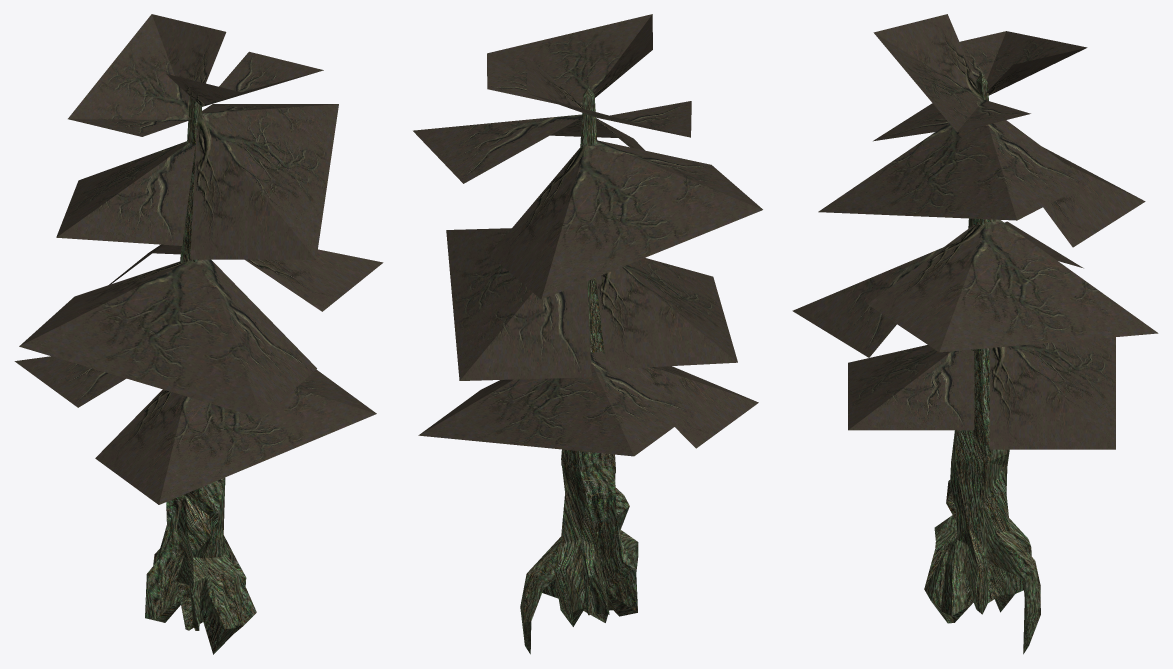
Rendered from decd_dath_humungtree_a1_l1.fbx.
3 views of the same model, side by side, from view 1: azimuth 30°, elevation 25°; view 2: azimuth 150°, elevation 25°; view 3: azimuth 270°, elevation 25° (orthographic).
Parts seen in each view (by area): view 1: mesh_node; view 2: mesh_node; view 3: mesh_node.
Part boxes in pixels (x1=…): mesh_node: x1=14, y1=14, x2=383, y2=654; mesh_node: x1=413, y1=14, x2=762, y2=654; mesh_node: x1=792, y1=14, x2=1158, y2=654.
Size of the model in its own units: 44.63 by 78.28 by 43.38.
3 materials, 3 textured.
